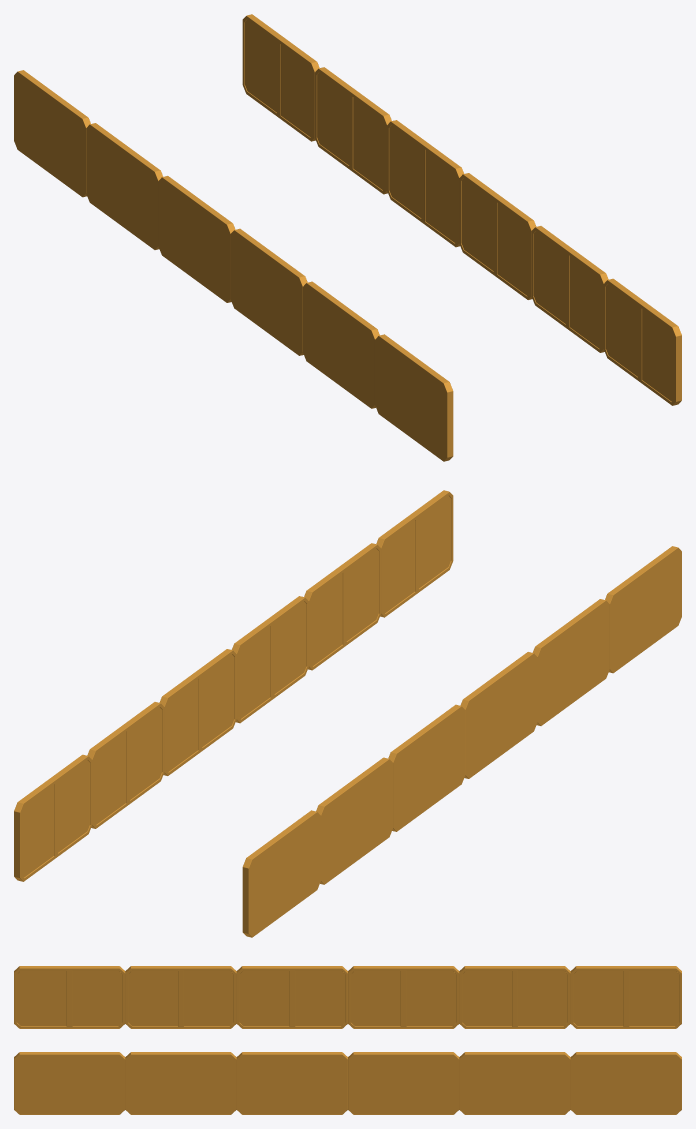
File: Tren_Wallrun.fbx
3 views of the same model, one above another, from view 1: azimuth 30°, elevation 25°; view 2: azimuth 150°, elevation 25°; view 3: azimuth 270°, elevation 25° (orthographic). The views are drawn at different scales.
Parts seen in each view (by area): view 1: Tren_Wallrun_L, Tren_Wallrun_R; view 2: Tren_Wallrun_L, Tren_Wallrun_R; view 3: Tren_Wallrun_L, Tren_Wallrun_R.
Part boxes in pixels (left/top/right/bottom): Tren_Wallrun_L: left=14, top=70, right=453, bottom=461; Tren_Wallrun_R: left=242, top=14, right=681, bottom=405; Tren_Wallrun_L: left=242, top=546, right=681, bottom=937; Tren_Wallrun_R: left=14, top=490, right=453, bottom=881; Tren_Wallrun_L: left=14, top=966, right=681, bottom=1028; Tren_Wallrun_R: left=14, top=1052, right=681, bottom=1114.
Size of the model in its own units: 939 by 300 by 3000.
